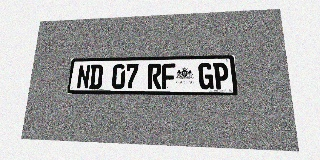0: (111, 64, 126, 89)
7: (125, 64, 139, 89)
D: (89, 64, 103, 89)
F: (162, 63, 175, 89)
G: (198, 63, 214, 89)
N: (76, 65, 91, 89)
P: (213, 62, 229, 89)
R: (148, 63, 161, 89)
